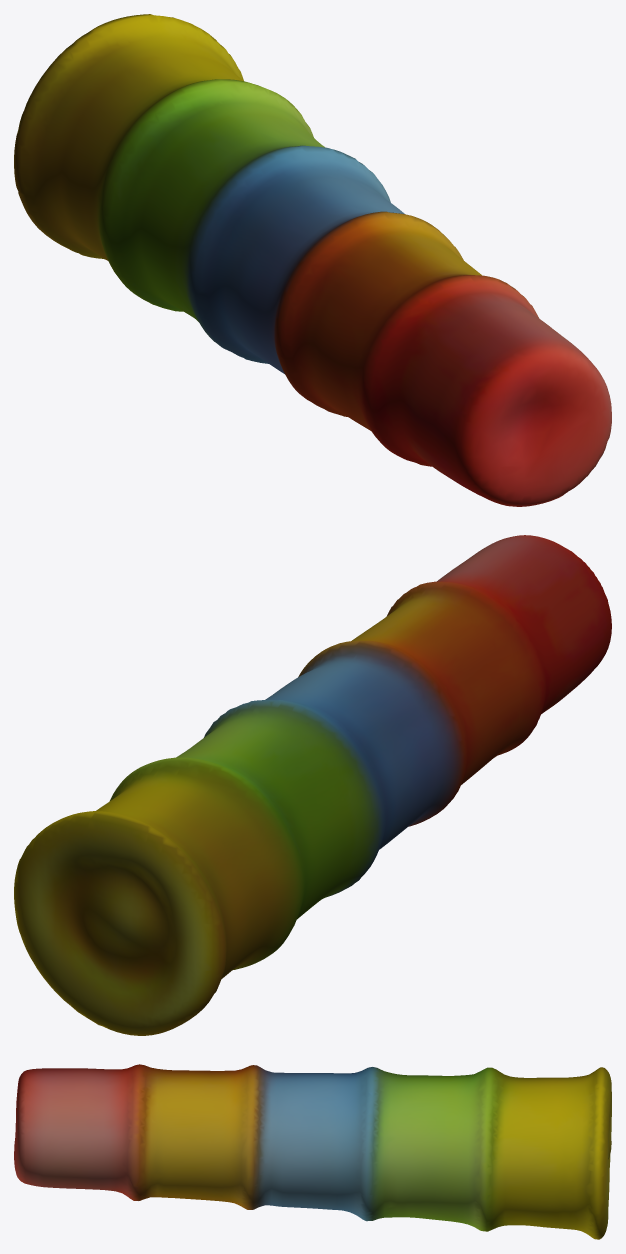
The model's file is stucking_cups.glb.
3 renders of one model, top to bottom at view 1: azimuth 30°, elevation 25°; view 2: azimuth 150°, elevation 25°; view 3: azimuth 270°, elevation 25°, orthographic. The views are drawn at different scales.
Size of the model in its own units: 0.2924 by 0.289 by 0.9998.
